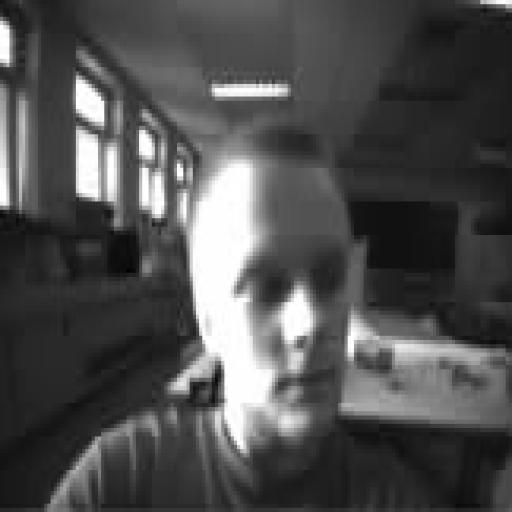human: (48, 118, 436, 511)
